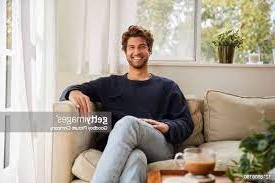not_fallen: (60, 21, 198, 182)
